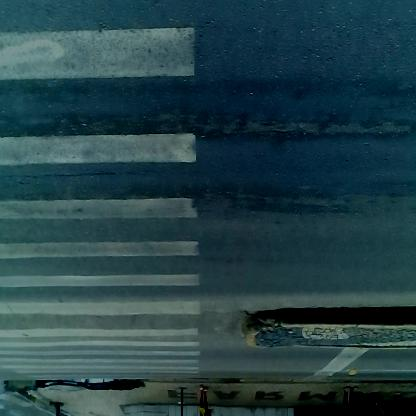crosswalk: (3, 1, 202, 379)
sidewalk: (12, 368, 380, 409)
